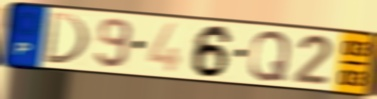2: (291, 33, 336, 87)
4: (145, 21, 184, 76)
6: (188, 23, 236, 79)
9: (93, 17, 133, 70)
D: (42, 10, 92, 67)
Q: (247, 29, 293, 83)
